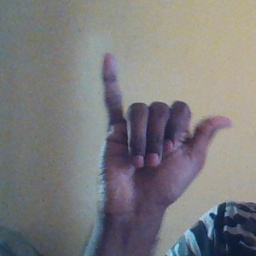J: (95, 54, 235, 207)
